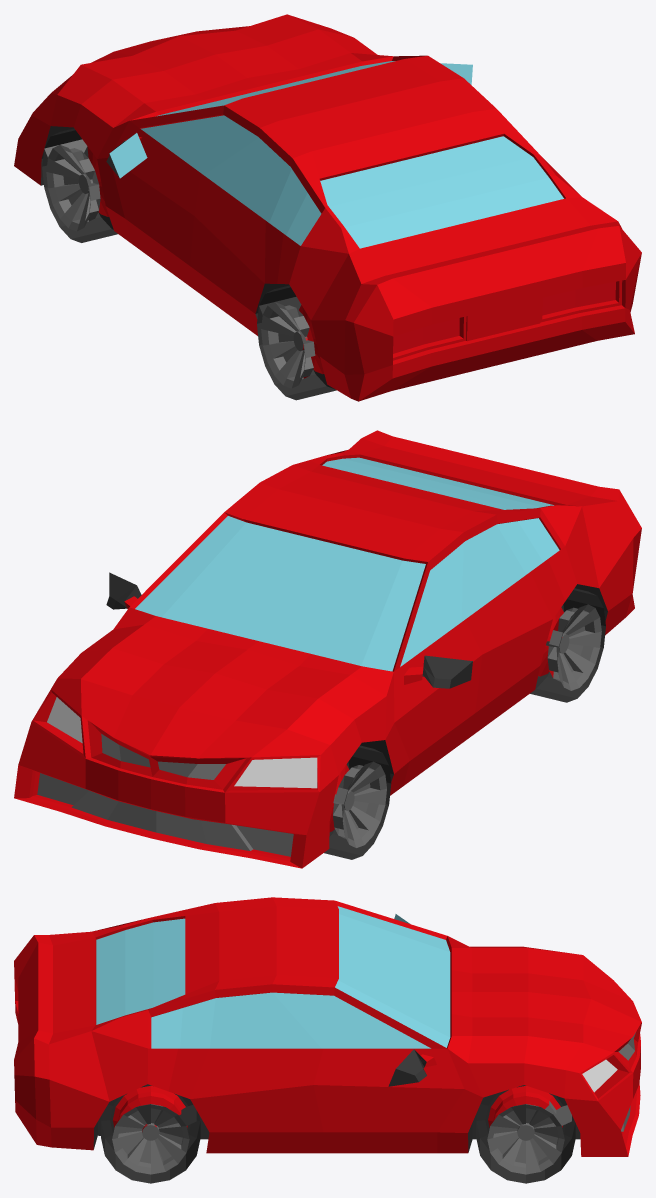
The model's file is Carro.fbx.
3 views of the same model, one above another, from view 1: azimuth 30°, elevation 25°; view 2: azimuth 150°, elevation 25°; view 3: azimuth 270°, elevation 25° (orthographic). The views are drawn at different scales.
Visible parts, largest first — view 1: Cube; view 2: Cube; view 3: Cube.
Boxes of the visible parts, left/top/right/bottom form: Cube: left=14, top=14, right=641, bottom=401; Cube: left=14, top=430, right=641, bottom=868; Cube: left=14, top=897, right=641, bottom=1183.
Size of the model in its own units: 258 by 140 by 442.
